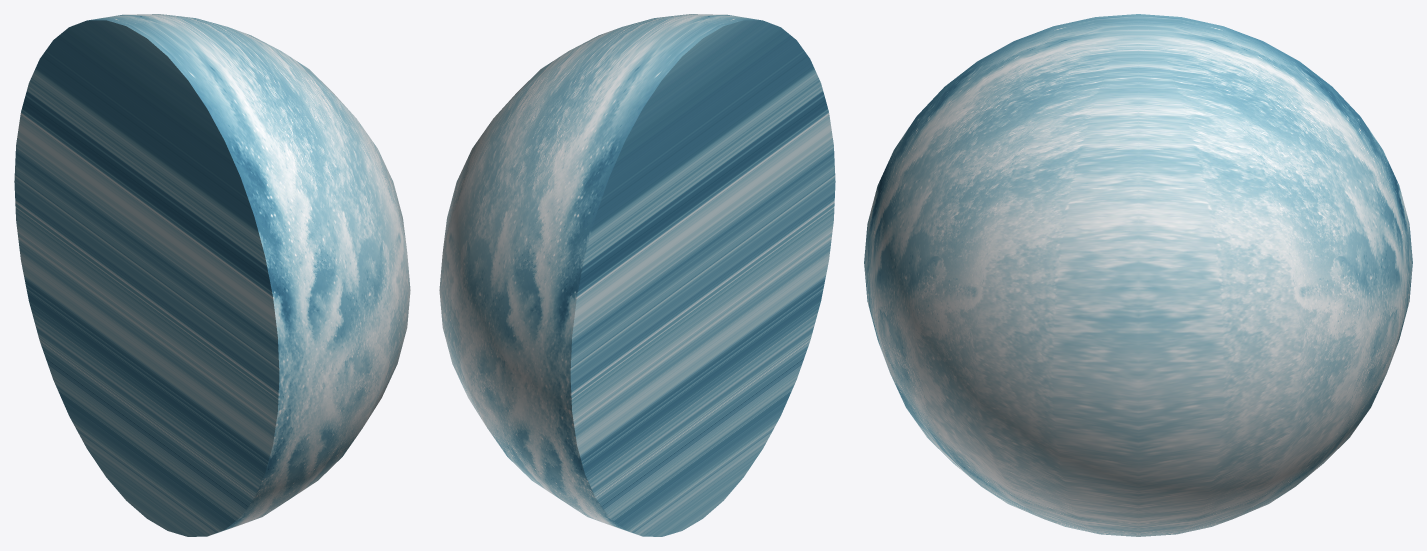
The model's file is HalfSphere.fbx.
The picture shows the model from 3 angles, left to right: view 1: azimuth 30°, elevation 25°; view 2: azimuth 150°, elevation 25°; view 3: azimuth 270°, elevation 25°; orthographic projection. The views are drawn at different scales.
Parts seen in each view (by area): view 1: pSphere1; view 2: pSphere1; view 3: pSphere1.
Boxes of the visible parts, x1,y1,x2,y2 form: pSphere1: (14,14,410,536); pSphere1: (439,14,835,536); pSphere1: (864,14,1412,536).
Size of the model in its own units: 4 by 8 by 8.
